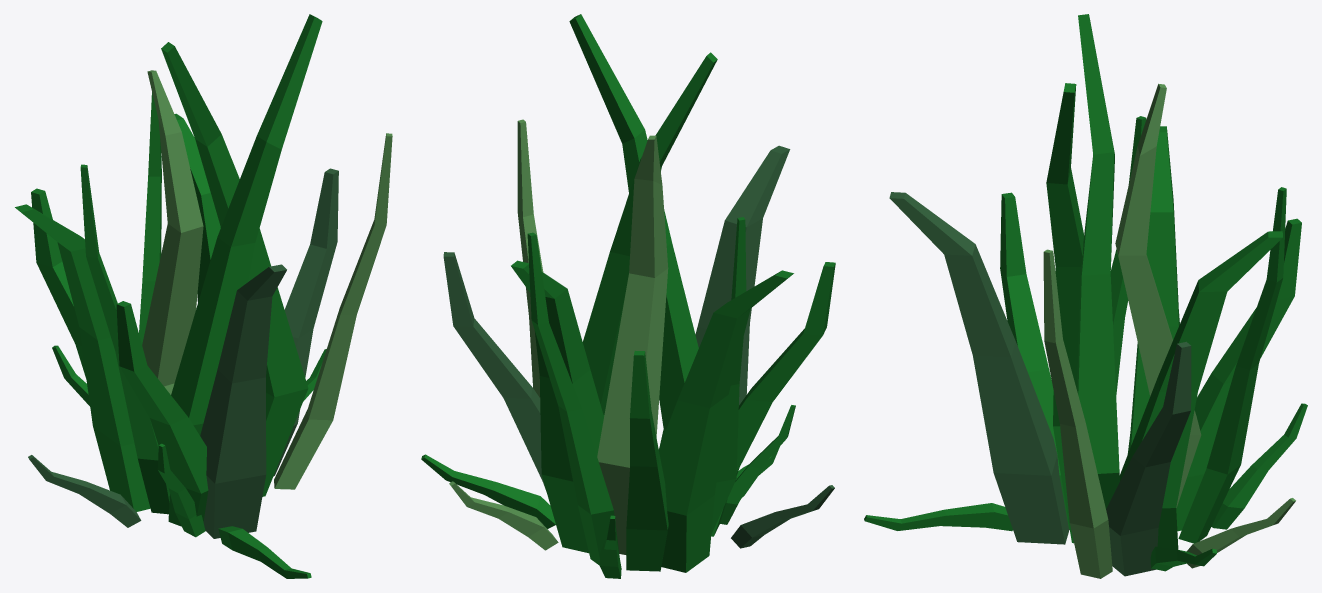
Rendered from tumbleseed.fbx.
3 views of the same model, side by side, from view 1: azimuth 30°, elevation 25°; view 2: azimuth 150°, elevation 25°; view 3: azimuth 270°, elevation 25° (orthographic). The views are drawn at different scales.
Parts seen in each view (by area): view 1: Plane; view 2: Plane; view 3: Plane.
Boxes of the visible parts, box(x1,y1,x2,y2) form: Plane: box(15, 14, 392, 578); Plane: box(421, 14, 835, 578); Plane: box(864, 14, 1307, 578).
Bounding box in the file's own units: 3.2 × 4.14 × 3.31.
